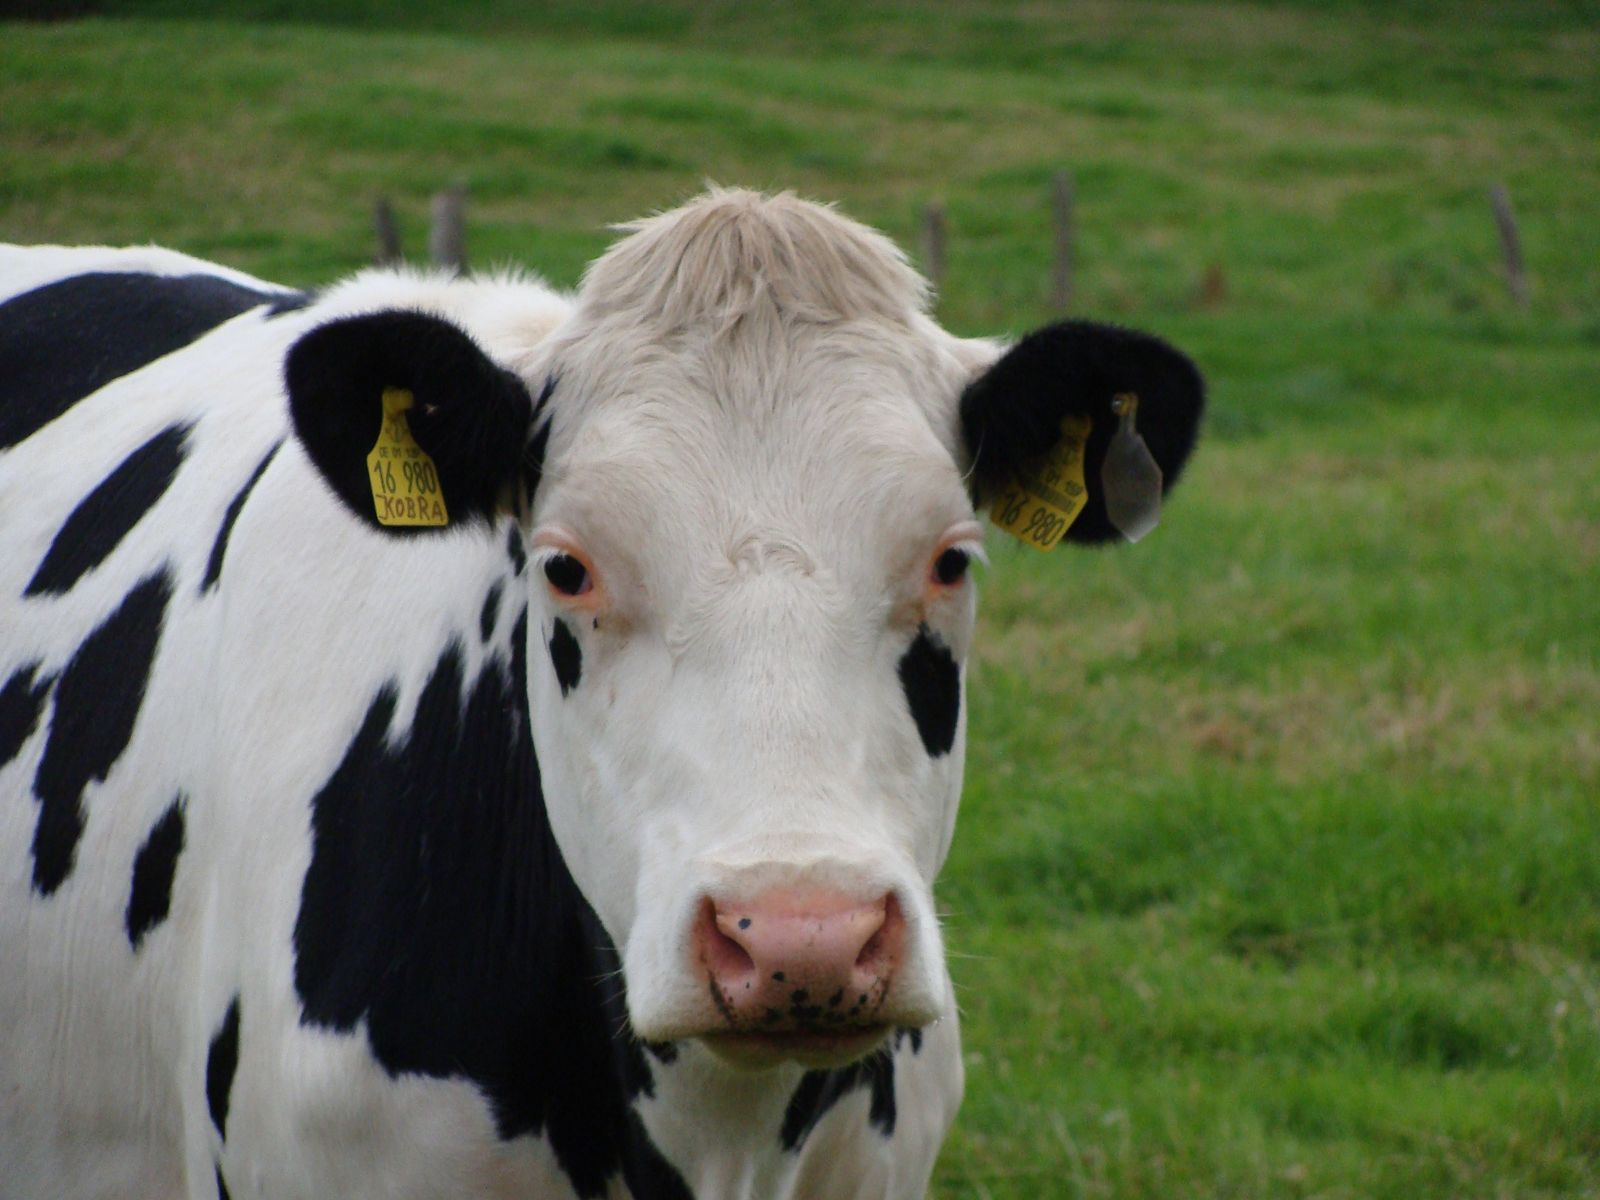cow: (1, 195, 1182, 1190)
